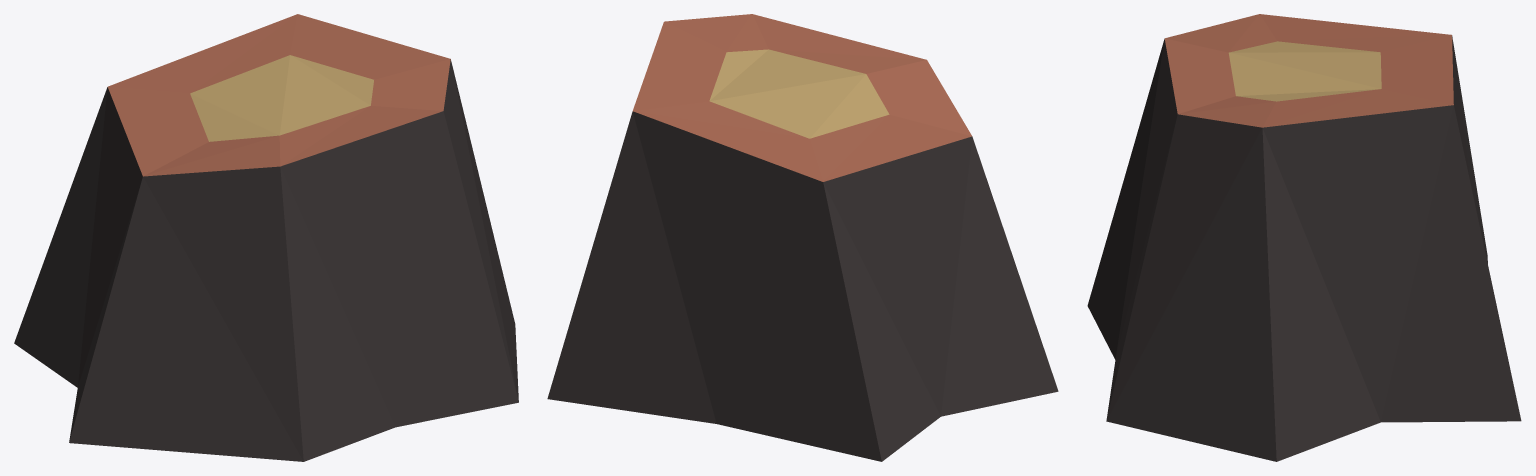
The model's file is TB_Env_Trunk_B.FBX.
3 renders of one model, left to right at view 1: azimuth 30°, elevation 25°; view 2: azimuth 150°, elevation 25°; view 3: azimuth 270°, elevation 25°, orthographic. The views are drawn at different scales.
Visible parts, largest first — view 1: TB_Env_Trunk_B; view 2: TB_Env_Trunk_B; view 3: TB_Env_Trunk_B.
Part boxes in pixels (x1,y1,x2,y2): TB_Env_Trunk_B: (14,14,518,461); TB_Env_Trunk_B: (547,14,1058,461); TB_Env_Trunk_B: (1087,14,1521,461).
Size of the model in its own units: 0.9547 by 0.5693 by 0.751.
